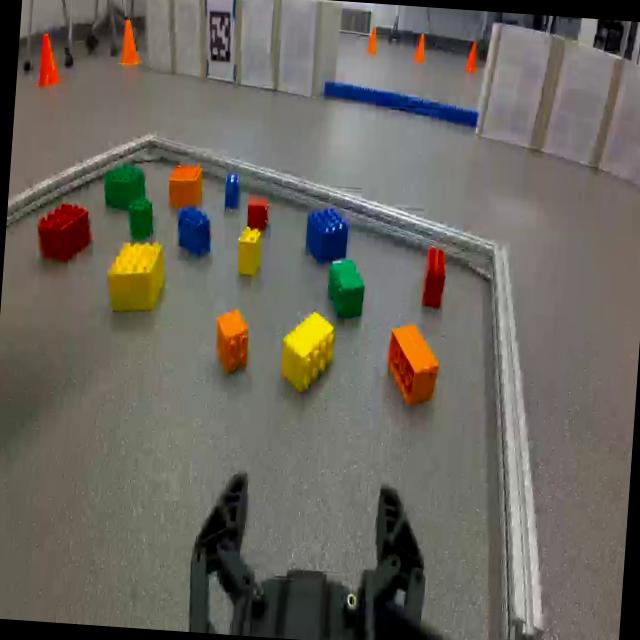block: (100, 235, 168, 322), (278, 309, 338, 398), (236, 223, 266, 280)
blue: (303, 202, 352, 266), (176, 201, 211, 258), (223, 170, 243, 212)
cone: (23, 26, 68, 90), (110, 14, 144, 72), (461, 40, 480, 76), (364, 22, 381, 58), (412, 31, 428, 67)
green: (324, 254, 368, 319), (102, 160, 150, 213), (126, 194, 155, 246)
metal barrier: (7, 129, 536, 640)
orange: (386, 323, 441, 411), (213, 308, 252, 374), (166, 160, 206, 212)
red goal: (34, 198, 98, 268), (418, 243, 448, 310), (244, 193, 269, 229)
river: (320, 77, 484, 130)
storage cube: (473, 16, 556, 152), (538, 35, 617, 172), (137, 0, 220, 84), (272, 0, 336, 100), (597, 49, 640, 186), (230, 0, 282, 94)
